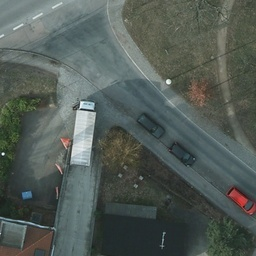car: (226, 184, 256, 217), (136, 112, 164, 139), (167, 144, 197, 166)
